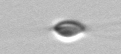plankton: (43, 17, 120, 43)
